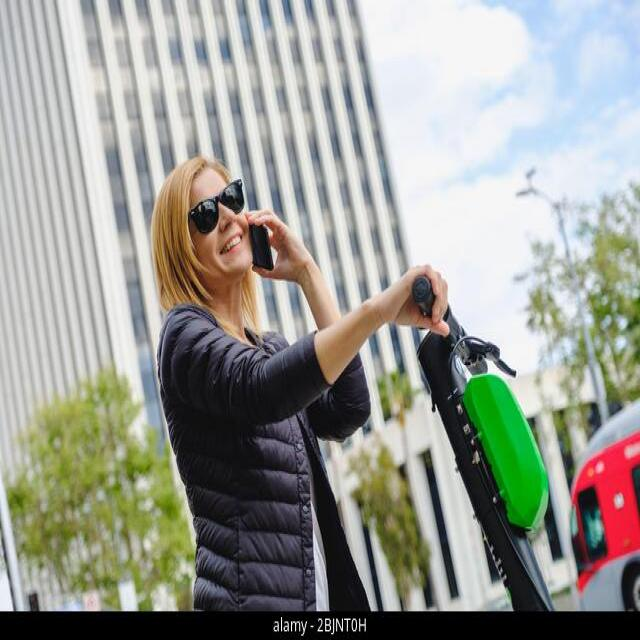Not Wearing Helmet: (146, 150, 264, 358)
Usage Of Phone While Riding: (138, 109, 420, 419)
